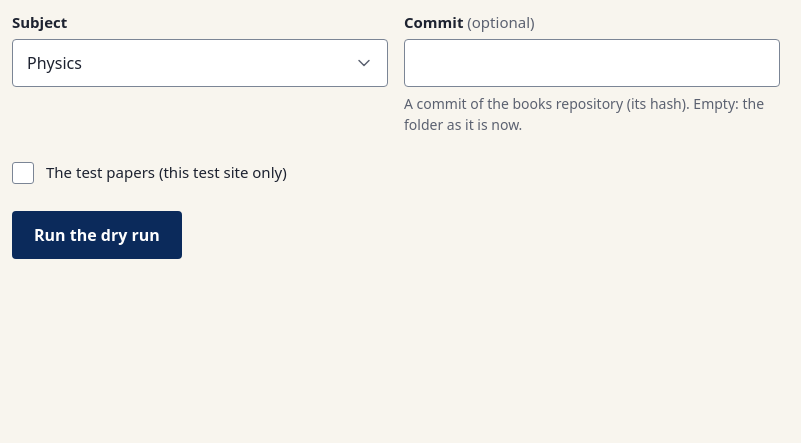
Test: ImportForm › shows the API's refusal beside its field
The image size is (801, 443).
In the field labelled "Commit (optional)": coordinates (592, 63) top-left (404, 39), bottom-right (780, 87), type "not-a-commit"
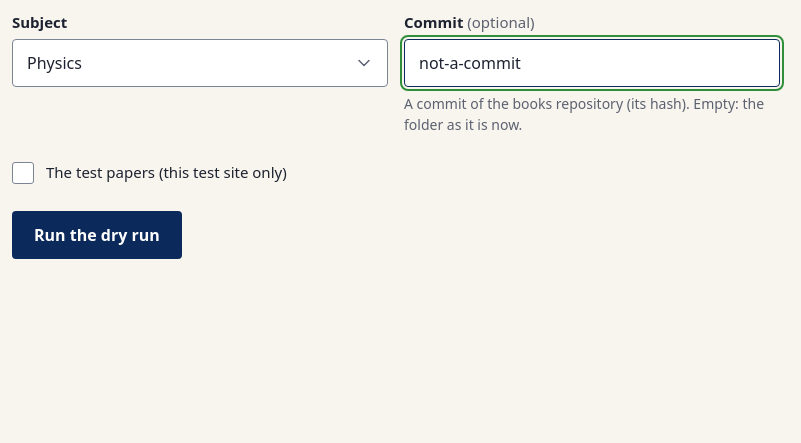
Click the button "Run the dry run": coordinates (97, 235) top-left (12, 211), bottom-right (182, 259)
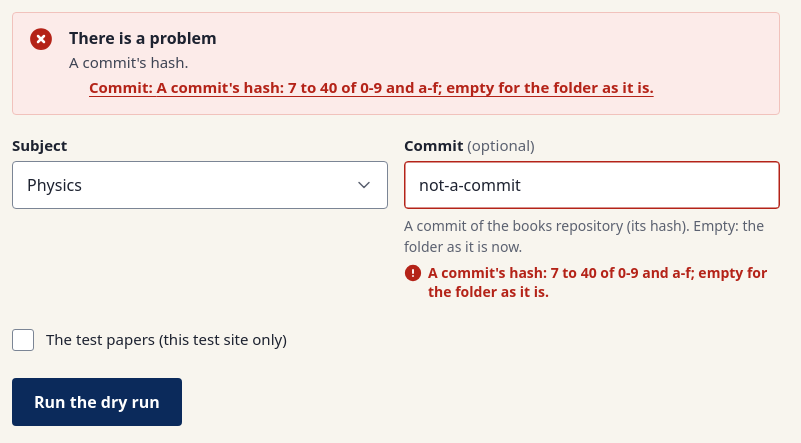
Check: the link "A commit's hash: 7 to 40 of 0-9 and a-f; empty for the folder as it is." is shown, box top-left (89, 77), bottom-right (654, 97)
